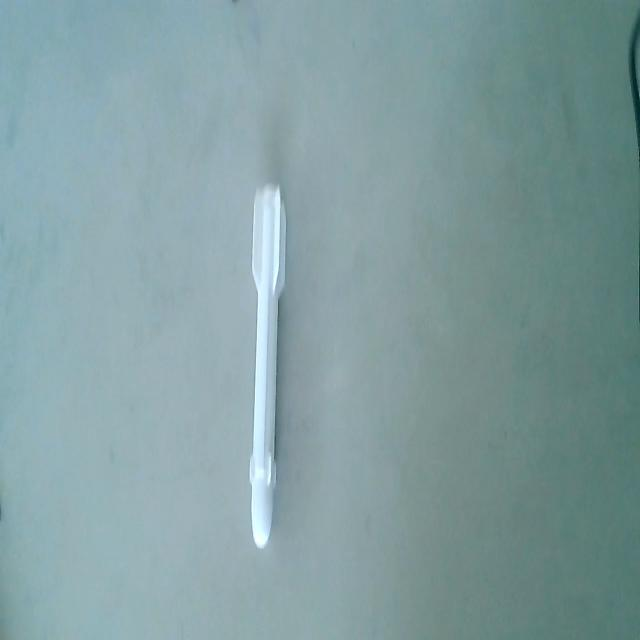Rocket: (247, 180, 290, 554)
